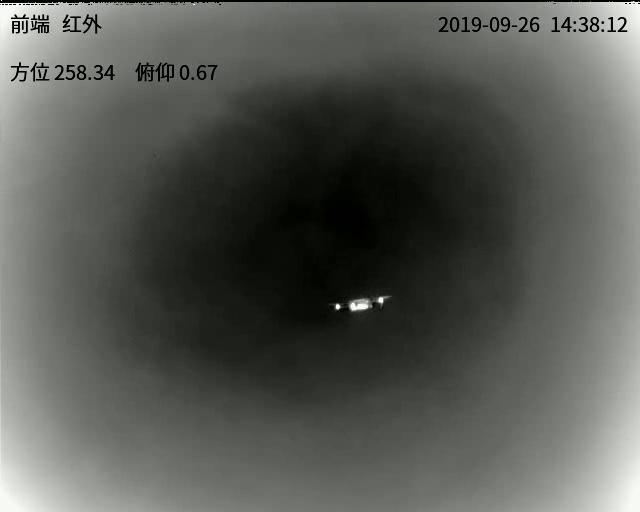DRONE: (331, 292, 393, 313)
